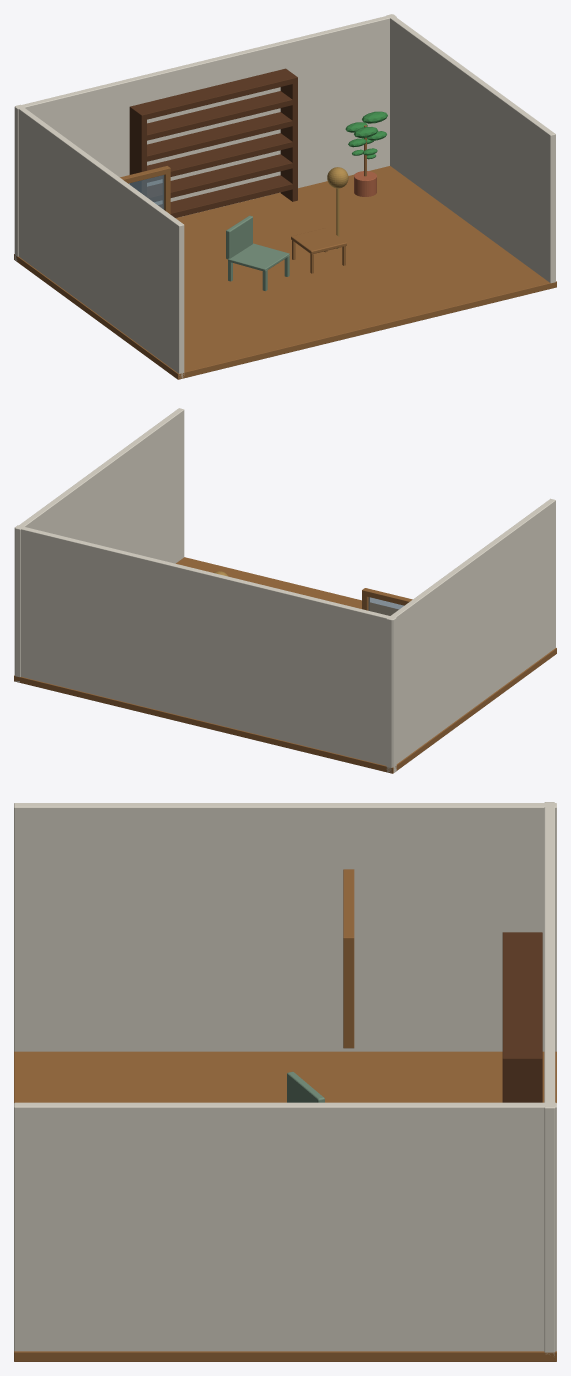
The picture shows the model from 3 angles, top to bottom: view 1: azimuth 30°, elevation 25°; view 2: azimuth 150°, elevation 25°; view 3: azimuth 270°, elevation 25°; orthographic projection. The views are drawn at different scales.
Parts seen in each view (by area): view 1: floor.structure, rear_wall.wall, left_wall.wall, right_wall.wall, library_shelves.shelf_6, library_shelves.shelf_5, library_shelves.shelf_4, library_shelves.shelf_2, library_shelves.shelf_3, library_shelves.shelf_1, library_shelves.side_r, library_shelves.side_l (+5 smaller); view 2: rear_wall.wall, left_wall.wall, right_wall.wall, floor.structure; view 3: right_wall.wall, left_wall.wall, floor.structure, rear_wall.wall, library_shelves.shelf_6, window.frame_r, library_shelves.side_r, window.frame_t, reading_chair.back.
Boxes of the visible parts, box(x1,y1,x2,y2) form: floor.structure: box(14, 166, 556, 379); rear_wall.wall: box(14, 14, 396, 261); left_wall.wall: box(15, 104, 184, 378); right_wall.wall: box(386, 14, 555, 283); library_shelves.shelf_6: box(129, 68, 297, 120); library_shelves.shelf_5: box(129, 91, 297, 141); library_shelves.shelf_4: box(129, 112, 297, 162); library_shelves.shelf_2: box(147, 154, 297, 201); library_shelves.shelf_3: box(129, 133, 297, 183); library_shelves.shelf_1: box(158, 175, 297, 217); library_shelves.side_r: box(280, 81, 297, 201); library_shelves.side_l: box(129, 110, 146, 196); rear_wall.wall: box(14, 525, 396, 772); left_wall.wall: box(386, 498, 555, 772); right_wall.wall: box(15, 408, 184, 682); floor.structure: box(14, 557, 556, 773); right_wall.wall: box(14, 1102, 556, 1351); left_wall.wall: box(14, 803, 556, 1051); floor.structure: box(14, 1051, 556, 1361); rear_wall.wall: box(544, 802, 555, 1355); library_shelves.shelf_6: box(502, 932, 542, 1067); window.frame_r: box(343, 934, 354, 1048); library_shelves.side_r: box(502, 1063, 542, 1102); window.frame_t: box(343, 869, 354, 946); reading_chair.back: box(287, 1071, 324, 1102).
Bounding box in the file's own units: 8 × 3.16 × 6.
